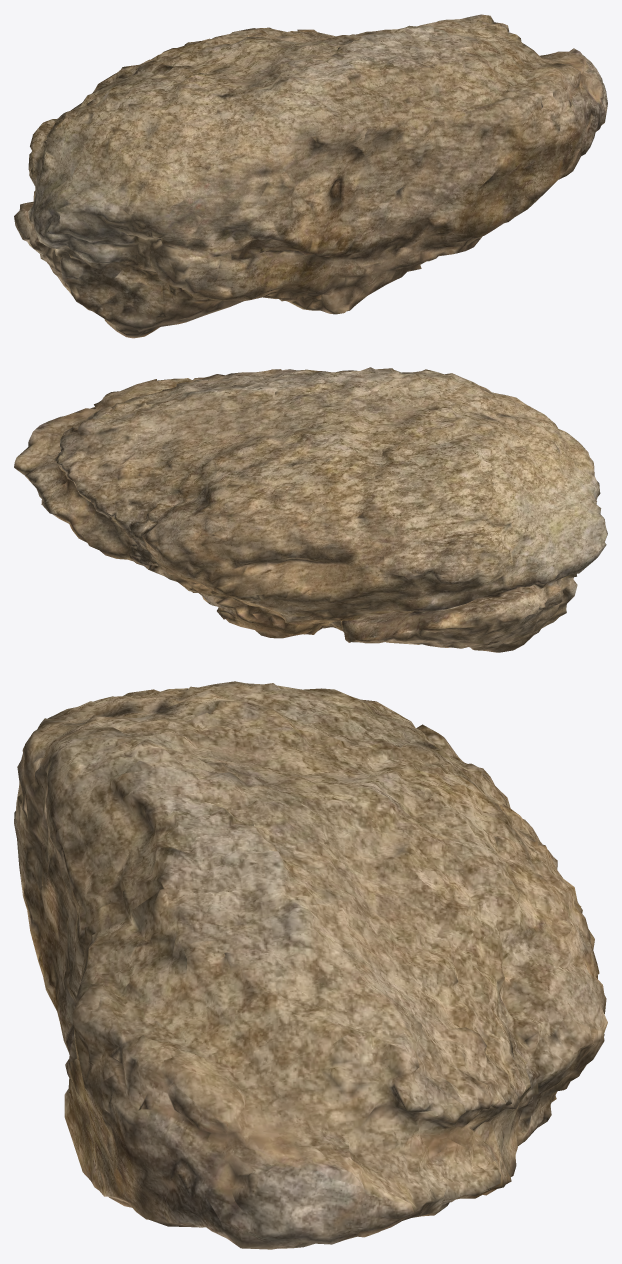
Rendered from namaqualand_boulder_05.glb.
3 views of the same model, one above another, from view 1: azimuth 30°, elevation 25°; view 2: azimuth 150°, elevation 25°; view 3: azimuth 270°, elevation 25° (orthographic). The views are drawn at different scales.
Visible parts, largest first — view 1: namaqualand_boulder_05; view 2: namaqualand_boulder_05; view 3: namaqualand_boulder_05.
Part boxes in pixels (x1=…): namaqualand_boulder_05: x1=14, y1=14, x2=607, y2=338; namaqualand_boulder_05: x1=14, y1=367, x2=607, y2=652; namaqualand_boulder_05: x1=14, y1=681, x2=607, y2=1249.
Bounding box in the file's own units: 1.36 × 0.5339 × 0.7481.
1 material, 1 textured.
